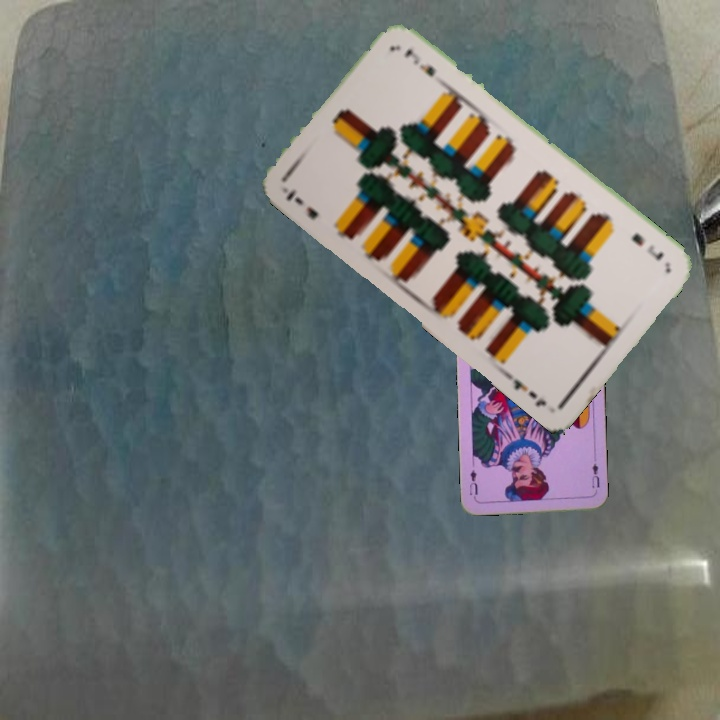E7: (281, 185, 321, 222), (627, 228, 667, 264)
EU: (587, 455, 602, 496)
